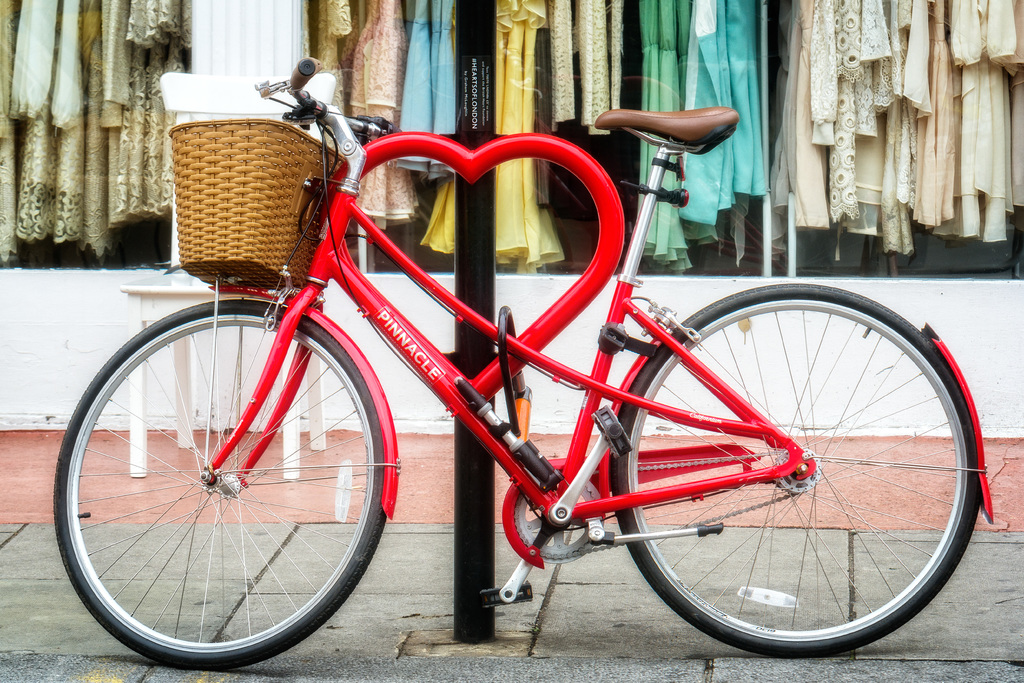Bike_toward: (155, 95, 961, 679)
